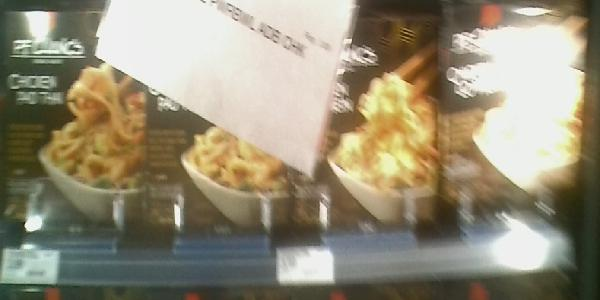pizza1: (447, 1, 593, 241), (3, 1, 145, 237), (296, 9, 439, 235)
